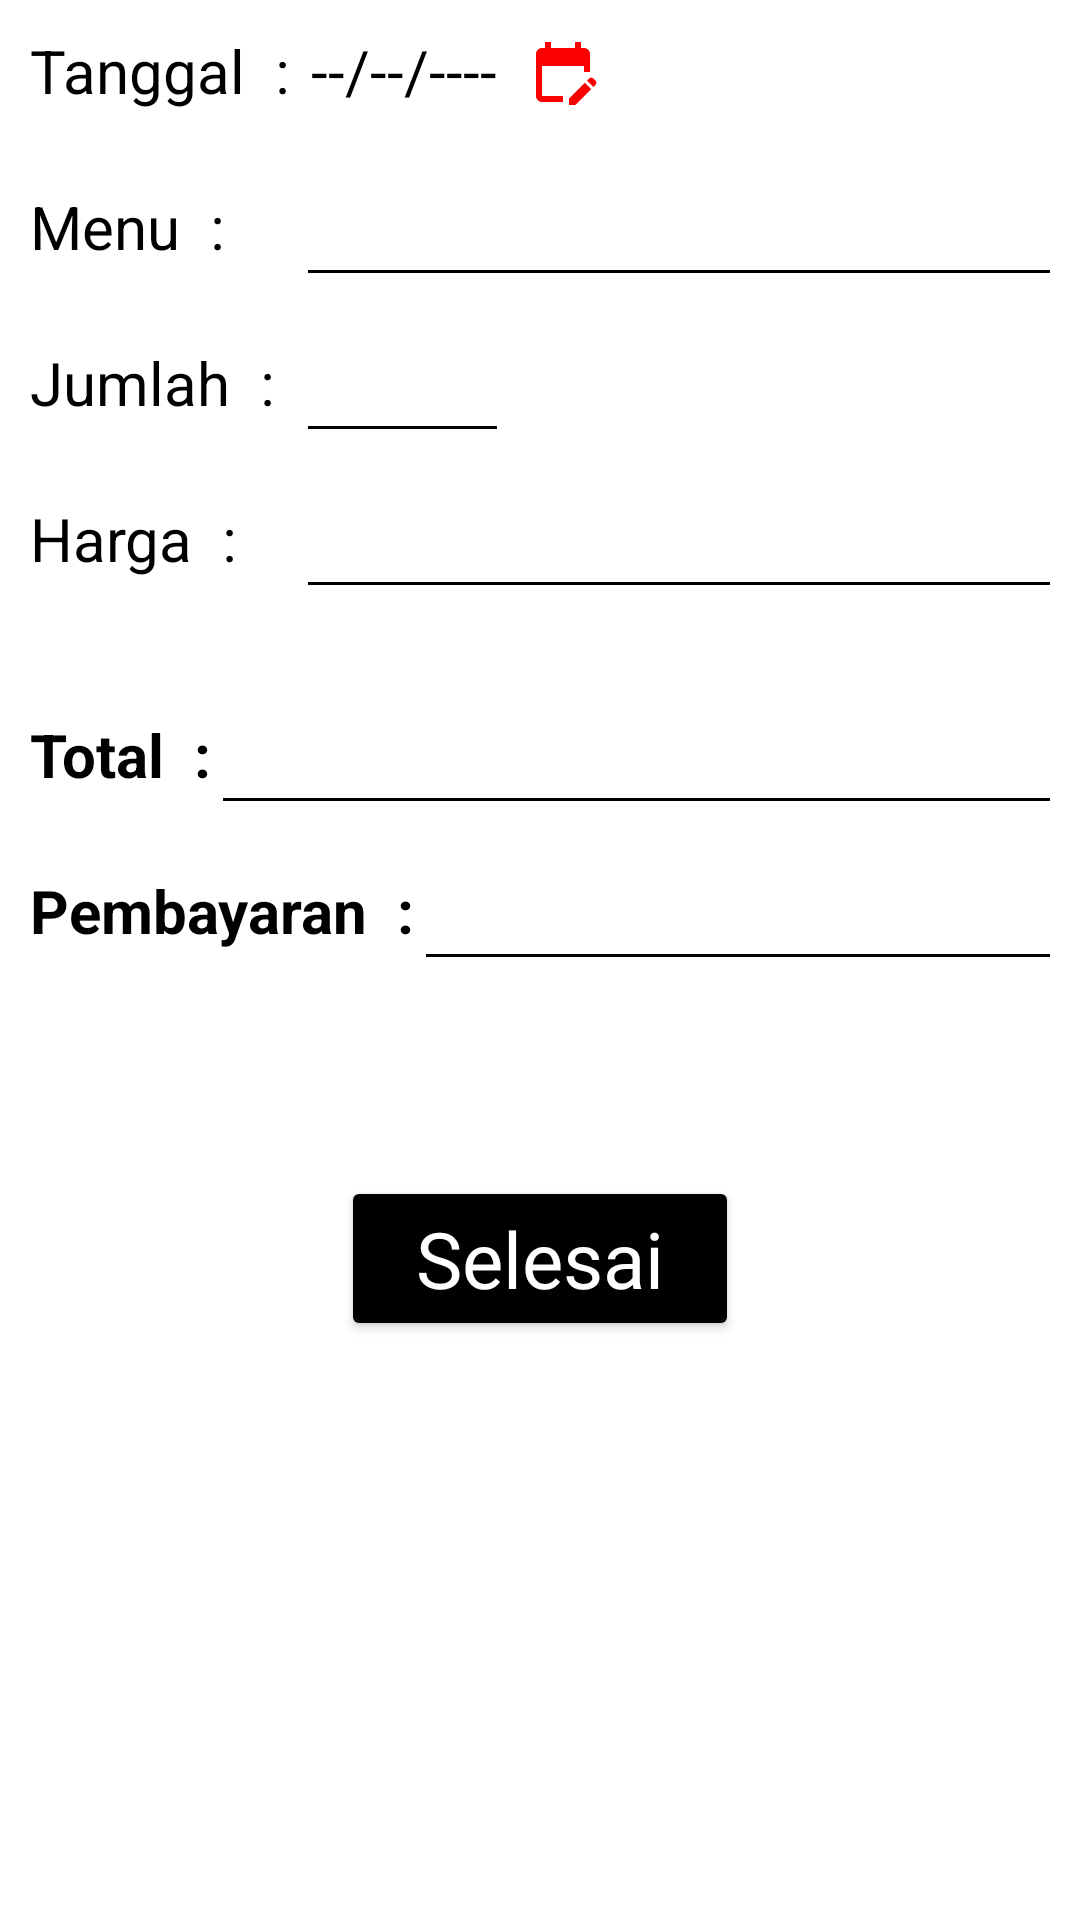

Icons on this 1080*1920 Android screen, each with its box as BBox(x1, y1, x2, y2):
edit calendar: BBox(536, 42, 597, 105)
